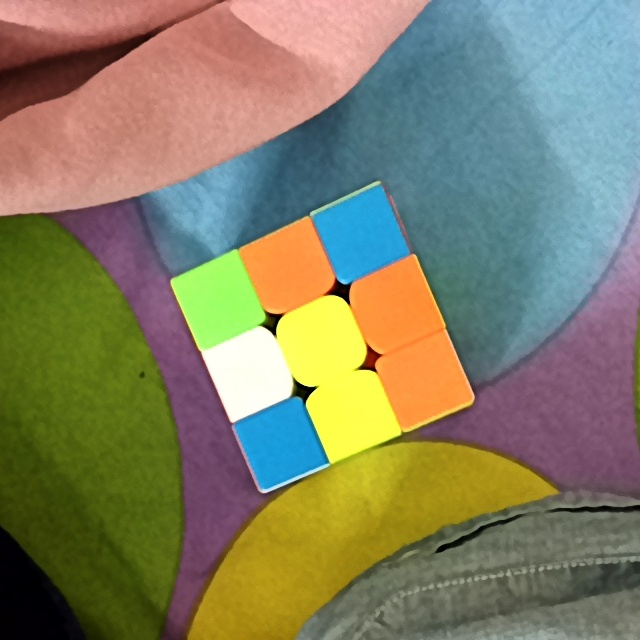tile: (368, 277, 424, 333), (397, 354, 454, 407), (262, 240, 315, 296), (296, 312, 349, 368), (332, 211, 389, 263), (191, 274, 245, 328), (326, 386, 379, 439), (223, 346, 275, 399), (254, 419, 304, 470)
